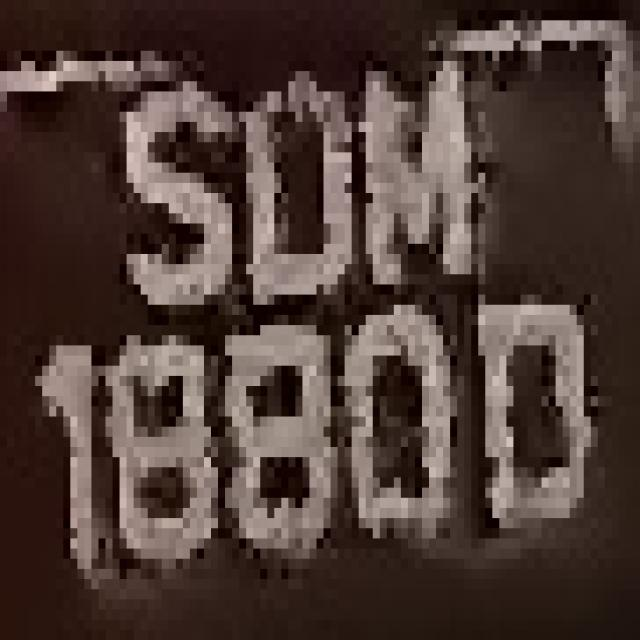0: (338, 264, 450, 589)
1: (42, 305, 99, 589)
8: (211, 284, 338, 559), (106, 295, 225, 579)
D: (232, 61, 366, 284), (471, 274, 584, 538)
M: (359, 61, 499, 284)
S: (91, 31, 225, 325)
